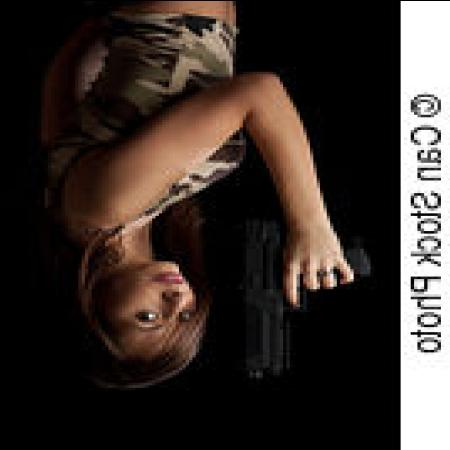Pistol: (232, 214, 370, 390)
